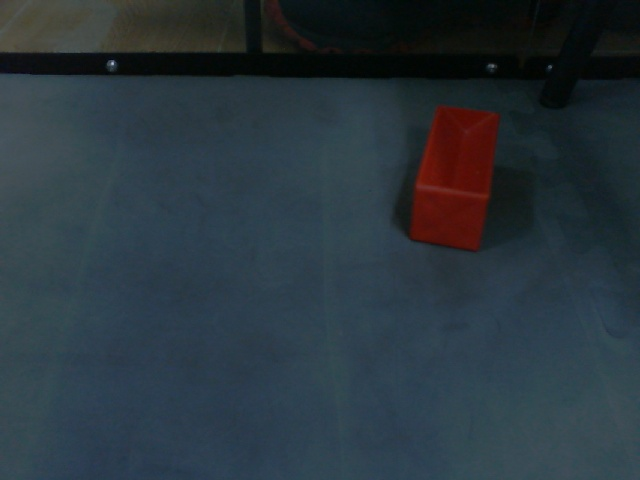RedSample: (407, 103, 502, 255)
